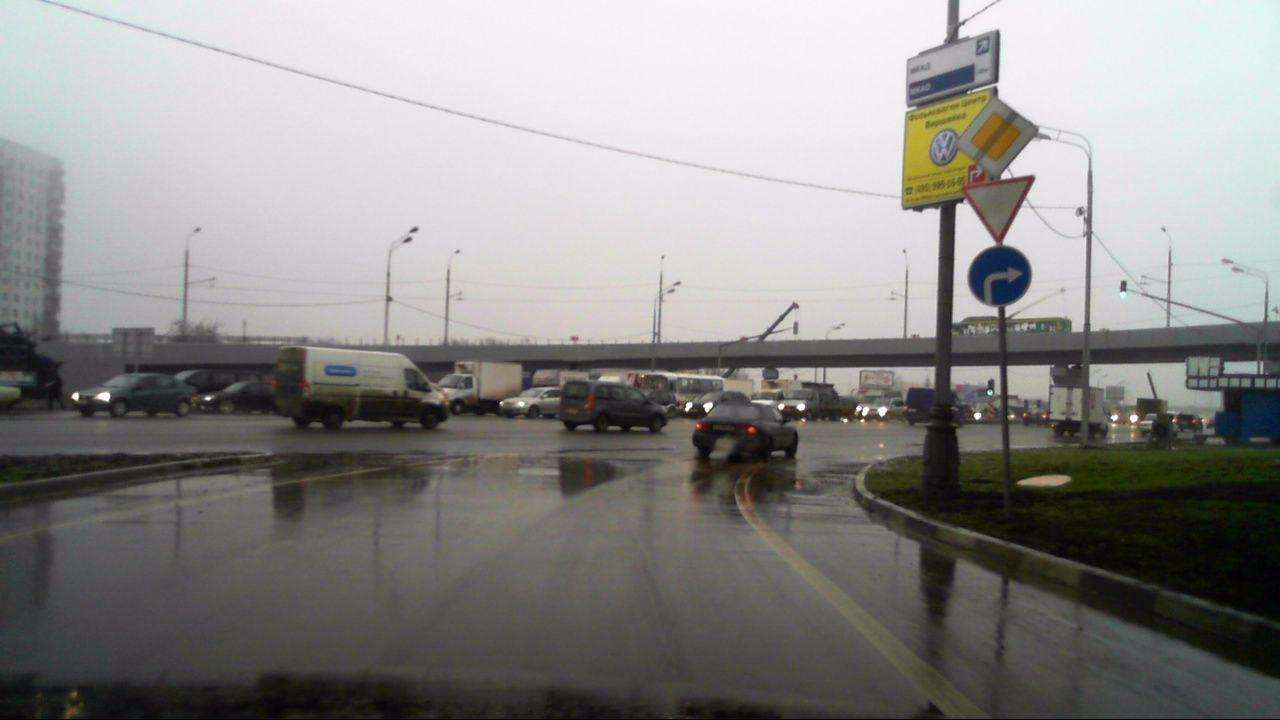2_2: (960, 91, 1040, 174)
2_4: (960, 174, 1036, 246)
4_1_2: (964, 246, 1034, 306)
